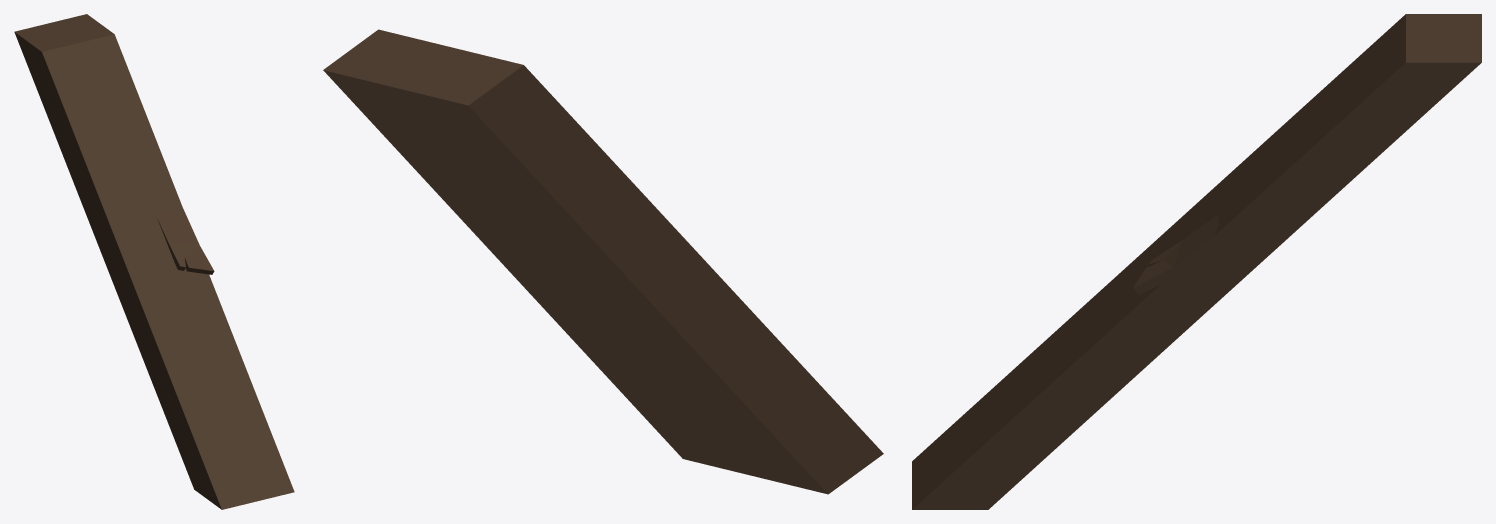
Rendered from buildings-roof-wood-3m-edge.glb.
3 views of the same model, side by side, from view 1: azimuth 30°, elevation 25°; view 2: azimuth 150°, elevation 25°; view 3: azimuth 270°, elevation 25° (orthographic). The views are drawn at different scales.
Parts seen in each view (by area): view 1: roof-wood-3m-edge; view 2: roof-wood-3m-edge; view 3: roof-wood-3m-edge.
Boxes of the visible parts, x1,y1,x2,y2 form: roof-wood-3m-edge: [14, 14, 294, 509]; roof-wood-3m-edge: [323, 29, 883, 494]; roof-wood-3m-edge: [912, 14, 1481, 509].
Bounding box in the file's own units: 0.7024 × 3 × 3.46.
